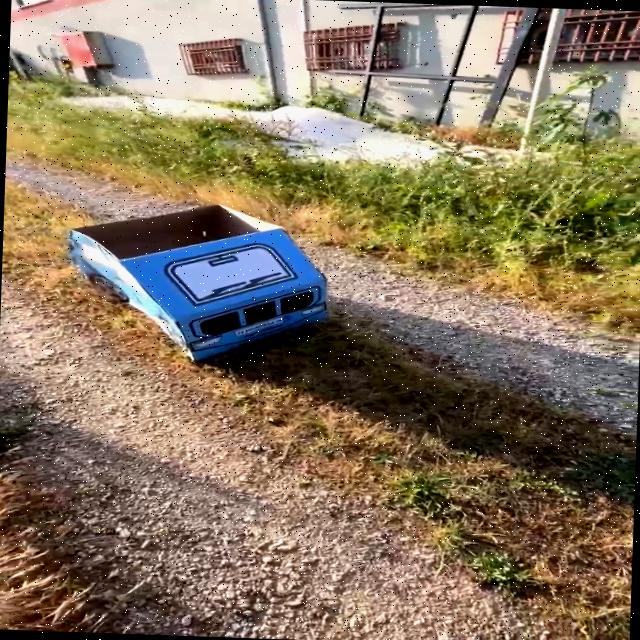blue_car: (7, 194, 386, 388)
